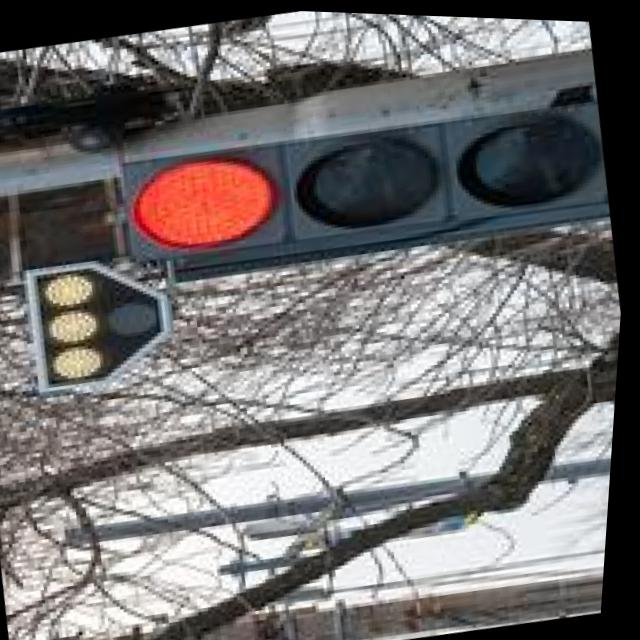red_light: (76, 100, 340, 363)
